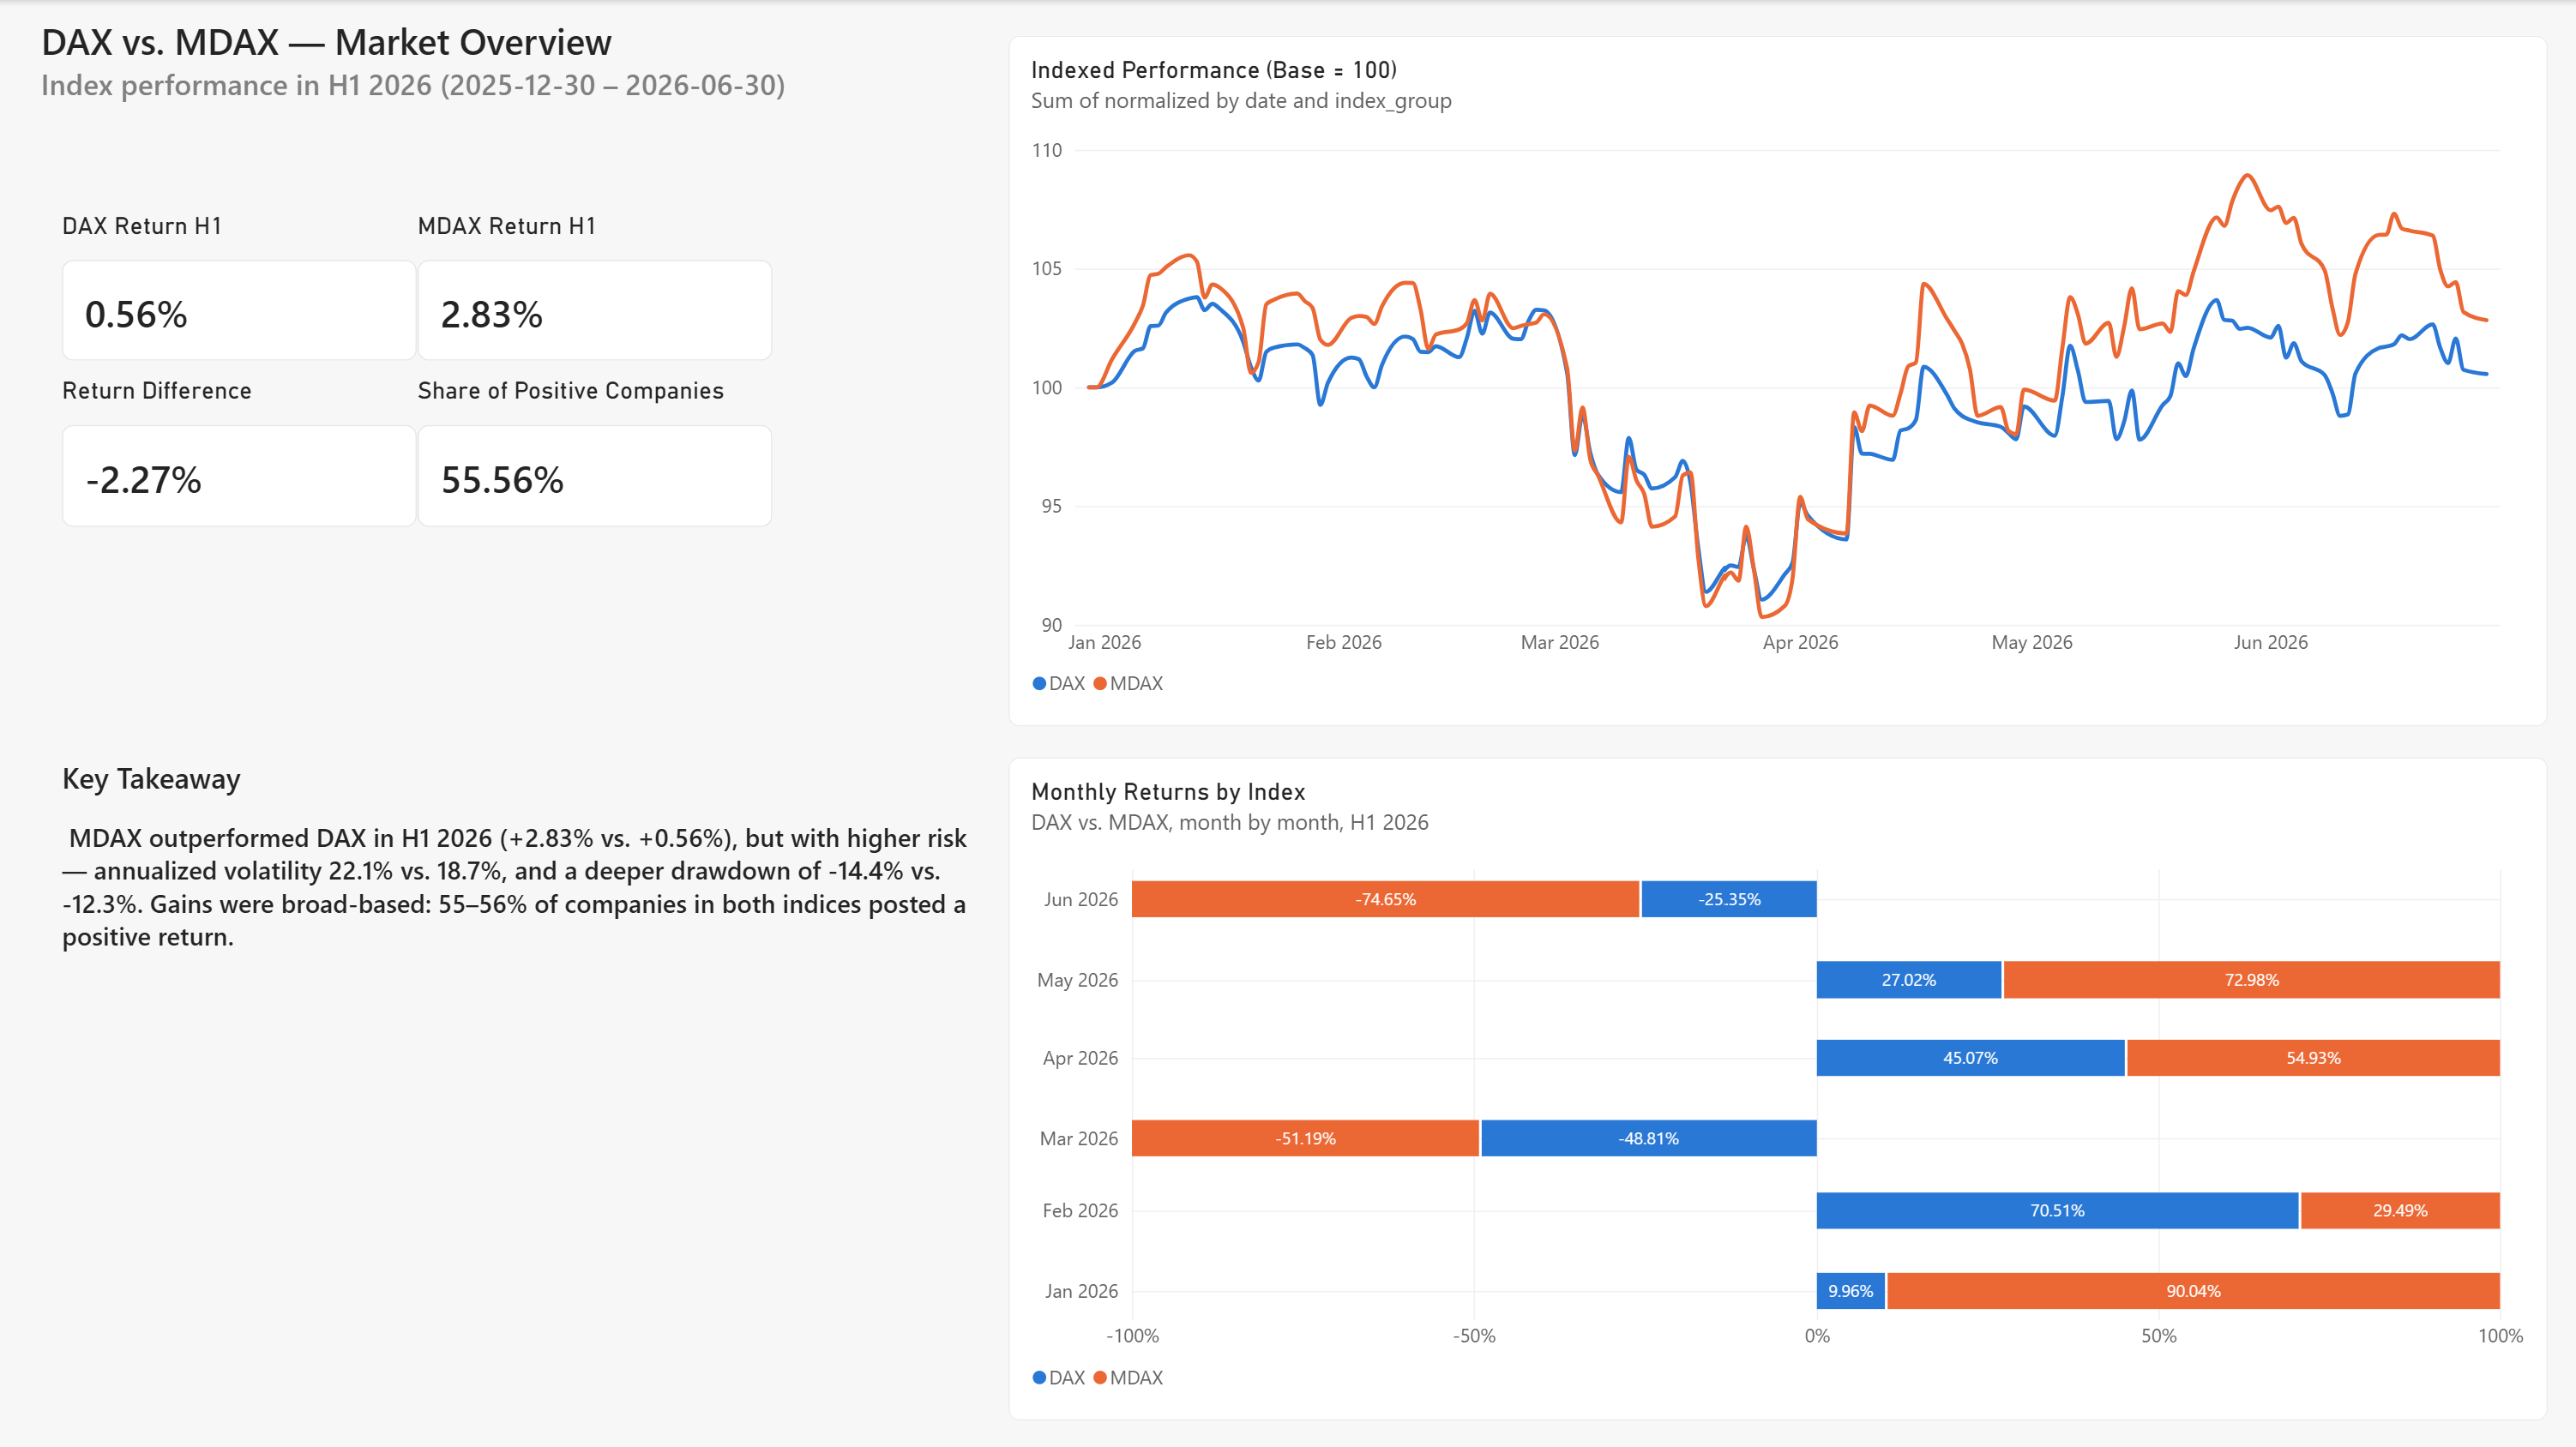

Layout of this report page (visuals, bound fields, positions):
{"tool":"powerbi","page":{"name":"Market Overview","canvas":[1920,1080],"ordinal":0},"visuals":[{"type":"textbox","box":[10,0,280,280],"z":0},{"type":"textbox","box":[32.4,12.3,602.6,97.6],"z":1000},{"type":"cardVisual","title":"DAX Return H1","fields":{"Data":["_Mesures.DAX Rendite H1"]},"box":[48,157.4,264.6,111.7],"z":2000},{"type":"cardVisual","title":"MDAX Return H1","fields":{"Data":["_Mesures.MDAX Rendite H1"]},"box":[312.6,157.4,264.6,111.7],"z":3000},{"type":"cardVisual","title":"Return Difference","fields":{"Data":["_Mesures.Renditedifferenz"]},"box":[48,280.2,264.6,112.8],"z":4000},{"type":"cardVisual","title":"Share of Positive Companies","fields":{"Data":["_Mesures.Anteil positive Unternehmen"]},"box":[312.6,280.2,264.6,112.8],"z":5000},{"type":"lineChart","title":"Indexed Performance (Base = 100)","fields":{"Category":["Fact_DailyMarketData.date"],"Series":["Fact_DailyMarketData.index_group"],"Y":["Sum(Fact_DailyMarketData.normalized)"]},"box":[752,27,1143.7,513.6],"z":6000},{"type":"hundredPercentStackedBarChart","title":"Monthly Returns by Index","fields":{"Category":["Fact_MonthlySummary.month"],"Series":["Fact_MonthlySummary.index_group"],"Y":["Sum(Fact_MonthlySummary.monthly_return)"]},"box":[752,563.3,1143.7,492.4],"z":7000},{"type":"textbox","box":[48,563.8,674,185.9],"z":8000}]}

Visuals, with their boxes in screenshot pixels (x1, y1, x2, y2), scaled from the page's 1920x1080 canvas onto the 2576x1447 screenshot:
textbox: crop(14, 0, 389, 375)
textbox: crop(44, 16, 852, 147)
"DAX Return H1" cardVisual: crop(64, 211, 419, 361)
"MDAX Return H1" cardVisual: crop(419, 211, 774, 361)
"Return Difference" cardVisual: crop(64, 375, 419, 526)
"Share of Positive Companies" cardVisual: crop(419, 375, 774, 526)
"Indexed Performance (Base = 100)" lineChart: crop(1009, 36, 2543, 724)
"Monthly Returns by Index" hundredPercentStackedBarChart: crop(1009, 754, 2543, 1414)
textbox: crop(64, 755, 969, 1005)
